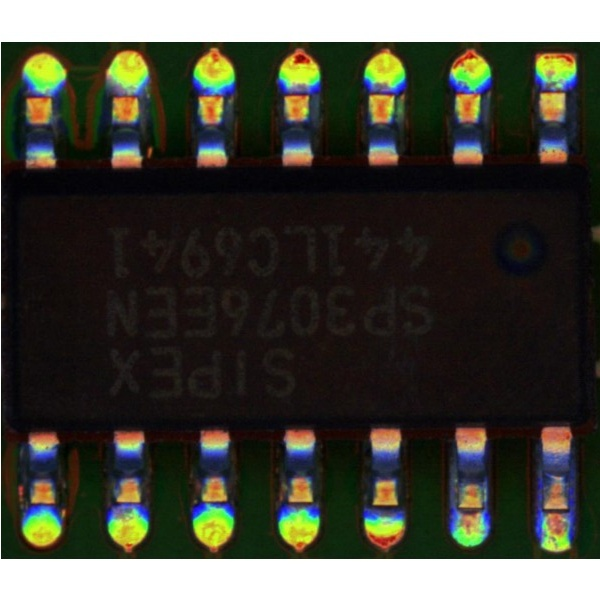Bad_podu: (457, 501, 481, 530), (543, 499, 566, 523)
